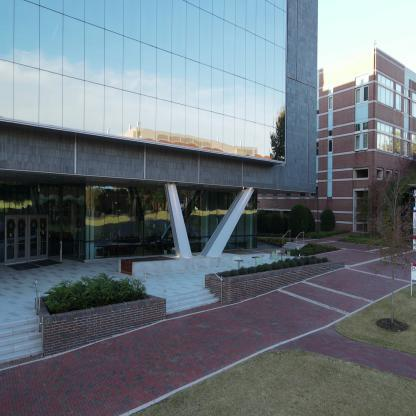EB-1: (328, 25, 415, 260)
Fitts- Woolard: (0, 2, 320, 288)
